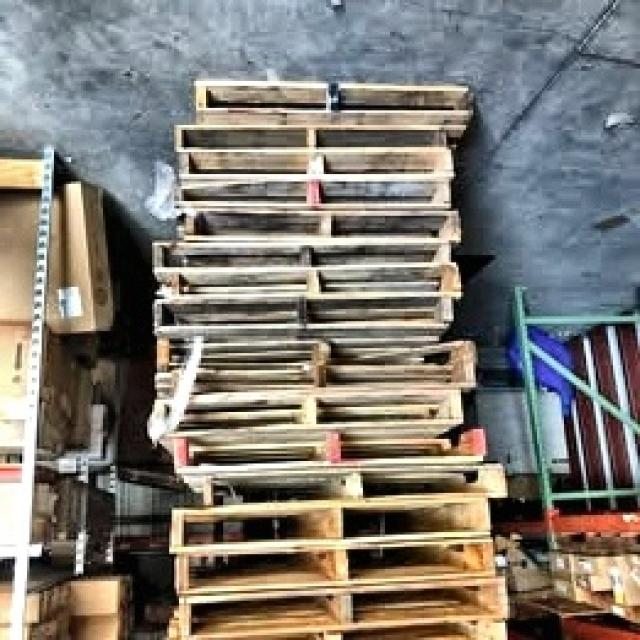non-igps: (167, 532, 508, 607), (172, 569, 524, 640), (164, 490, 496, 565), (142, 387, 468, 457), (150, 332, 490, 398), (152, 252, 473, 318), (144, 296, 460, 360), (147, 230, 460, 292), (185, 70, 478, 136), (186, 454, 517, 512), (170, 420, 460, 482), (170, 108, 458, 169), (170, 157, 463, 216), (166, 201, 473, 257), (170, 137, 462, 189)
